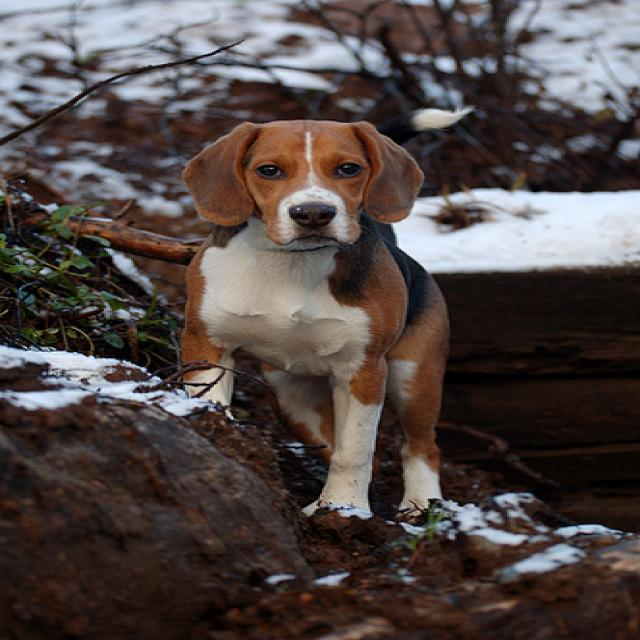dog-beagle: (168, 102, 468, 518)
